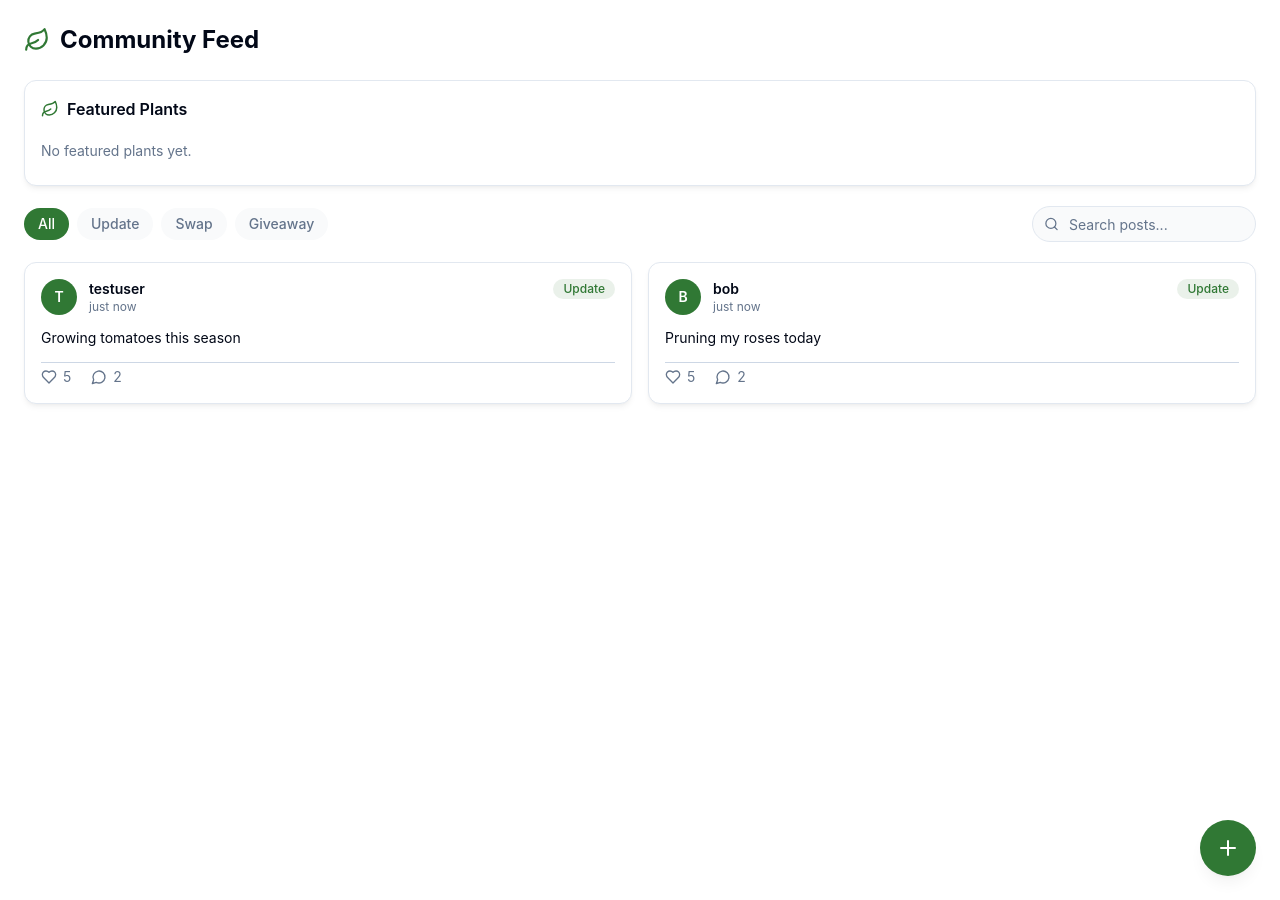
Test: FeedPage › Filtering › filters posts by search text input
The image size is (1280, 900).
Expected: the text "Growing tomatoes this season" is shown, x1=41 y1=329 x2=241 y2=346
Step 1. Type "tomatoes" into the search field with placeholder "Search posts..." → (1144, 224), box x1=1032 y1=206 x2=1256 y2=242
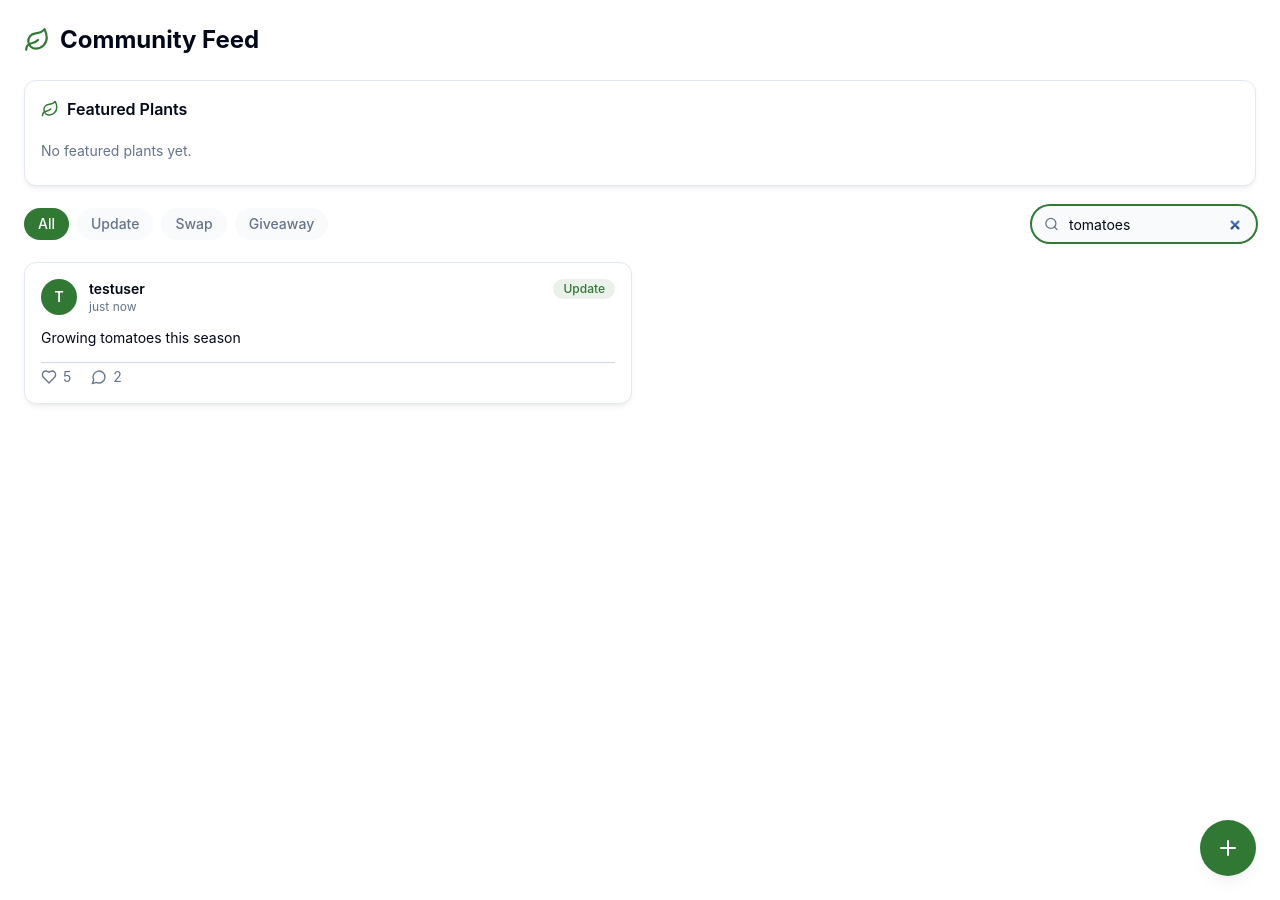
Expected: the text "Growing tomatoes this season" is shown, x1=41 y1=329 x2=241 y2=346
Expected: the text "Pruning my roses today" is gone
